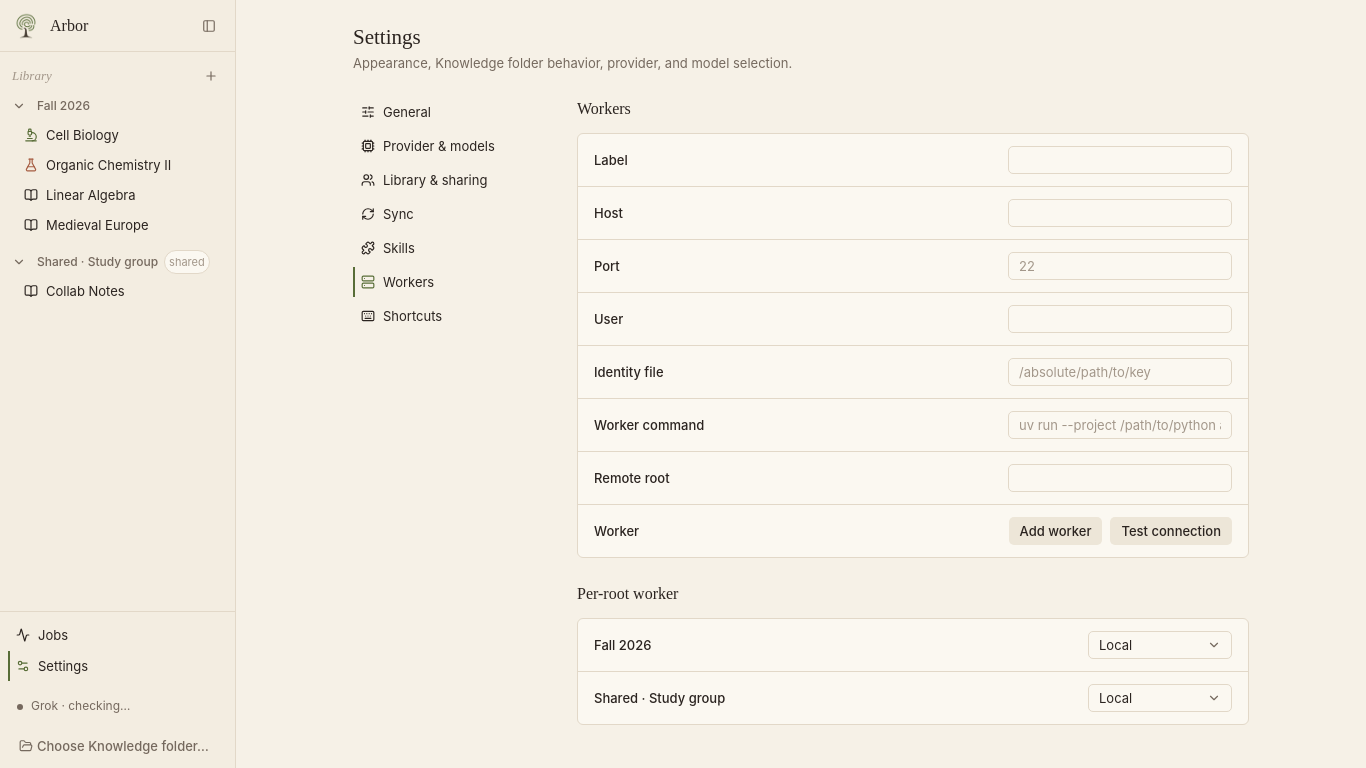
Test: settings sharing (14b) › workers invalid port shows legacy error
Check: the field named "Worker port" is shown, box 1008,252 -> 1232,280
In the field named "Worker label": coordinates (1120, 160) 1008,146 -> 1232,174, type "GPU"
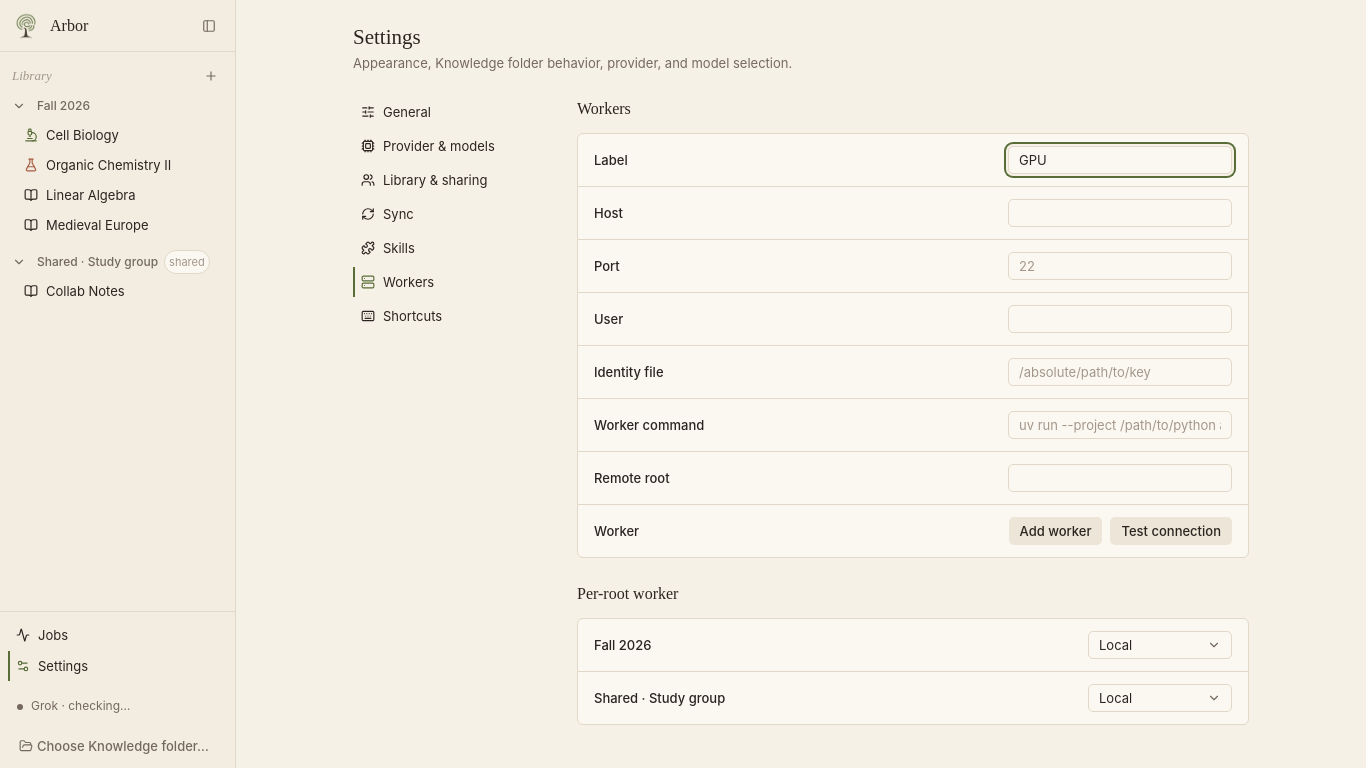
In the field named "Worker host": coordinates (1120, 213) 1008,199 -> 1232,227, type "gpu.local"
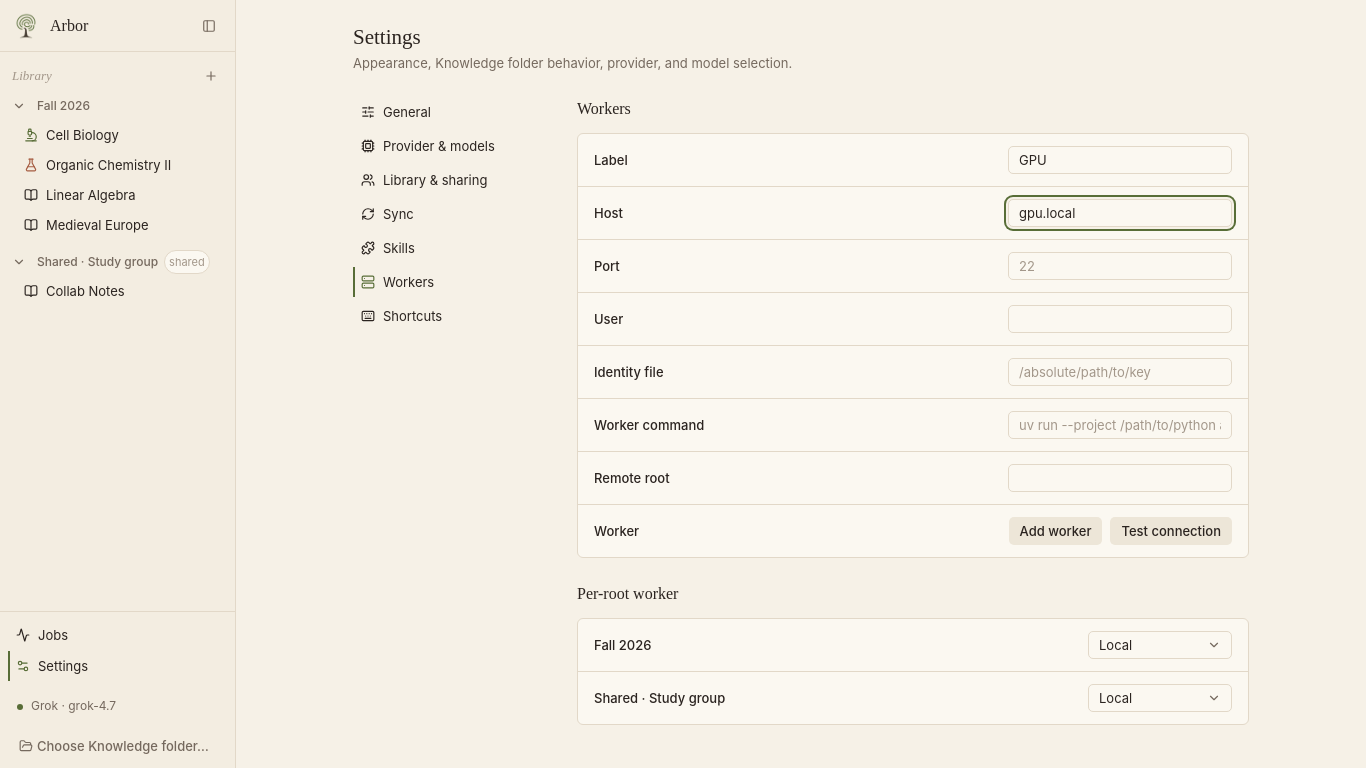
In the field named "Worker port": coordinates (1120, 266) 1008,252 -> 1232,280, type "99999"
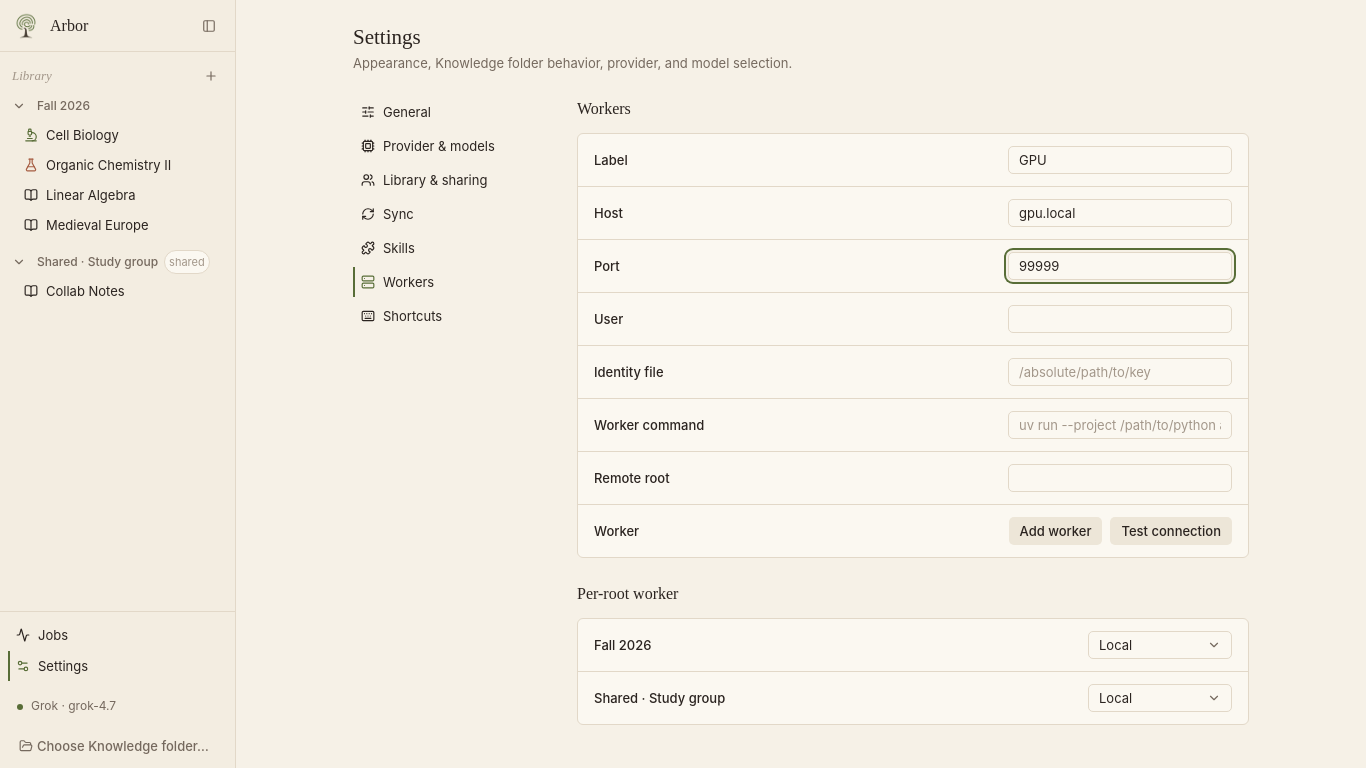
In the field labelled "Worker command": coordinates (1120, 425) 1008,411 -> 1232,439, type "cmd"
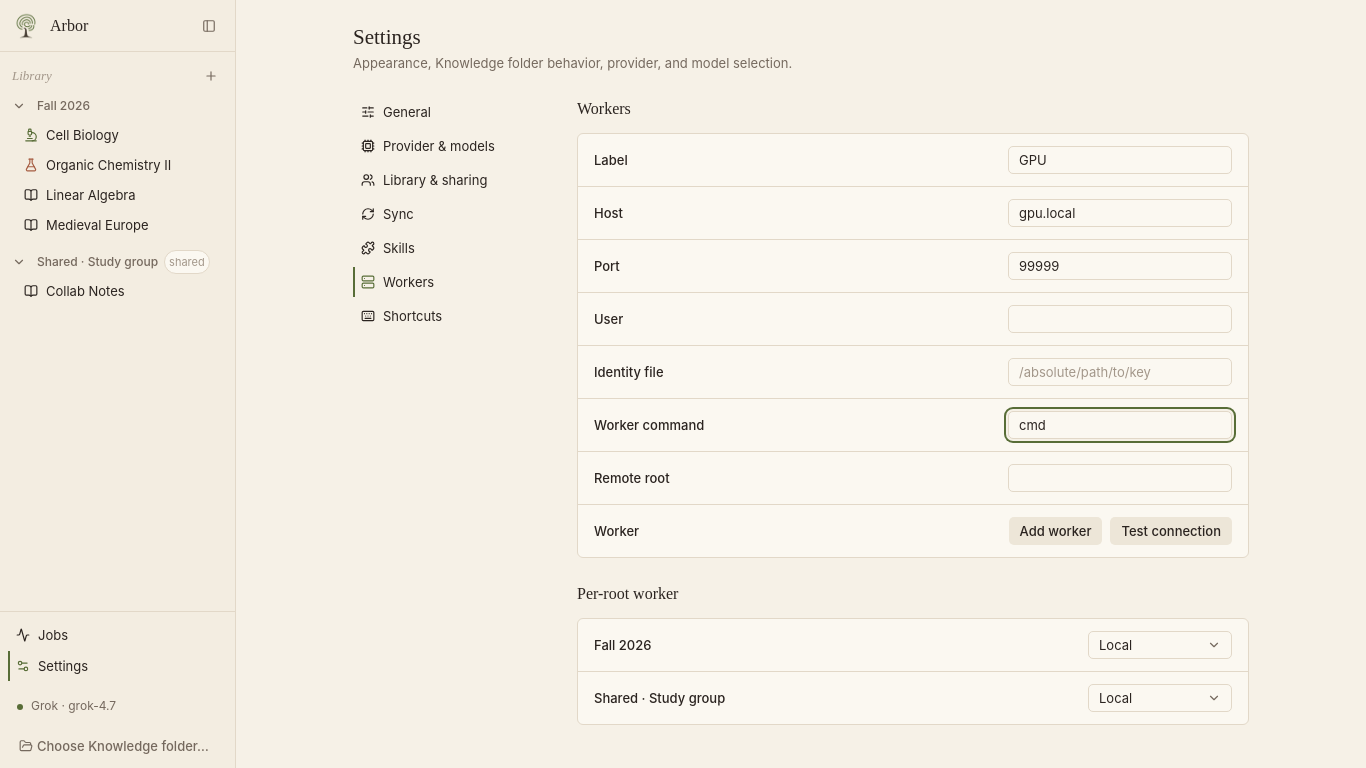
In the field labelled "Remote root": coordinates (1120, 478) 1008,464 -> 1232,492, type "/data"
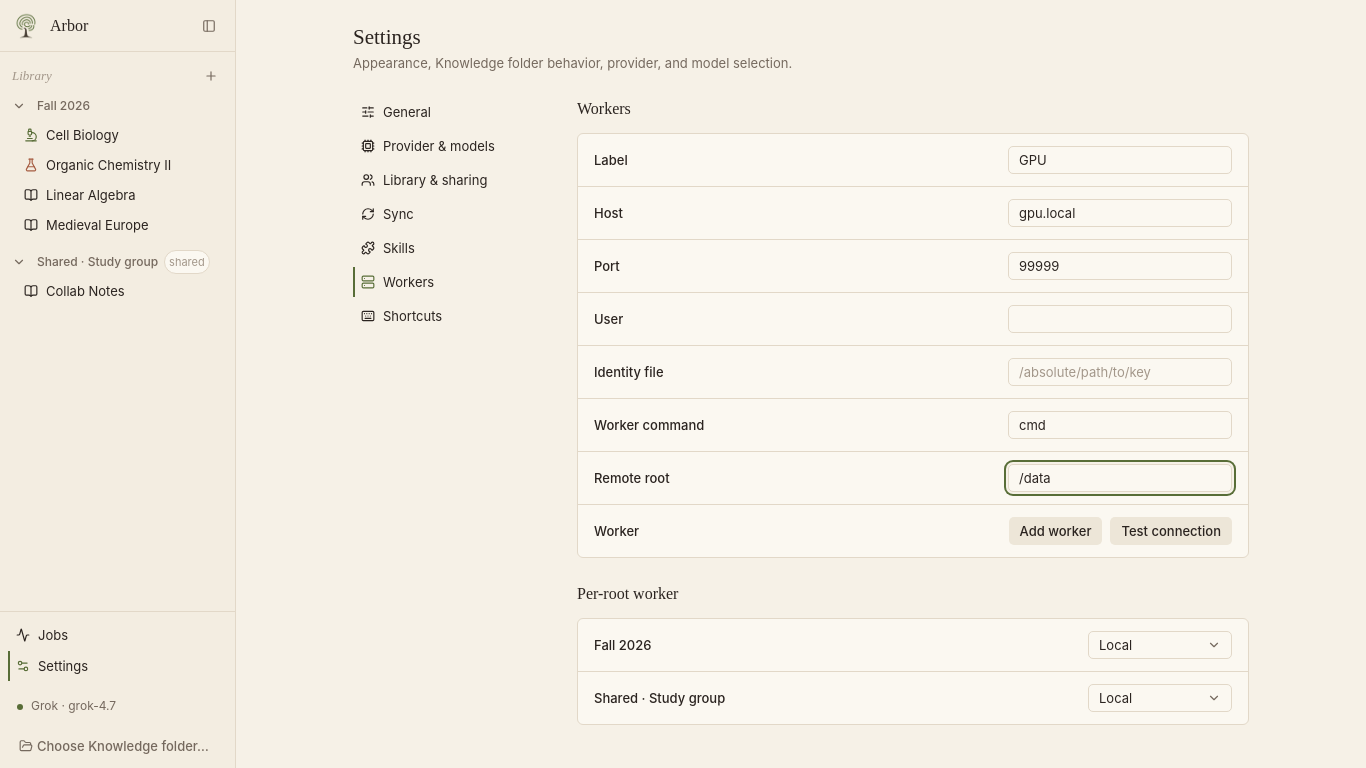
Click the button "Add worker": coordinates (1056, 531) 1008,517 -> 1102,545
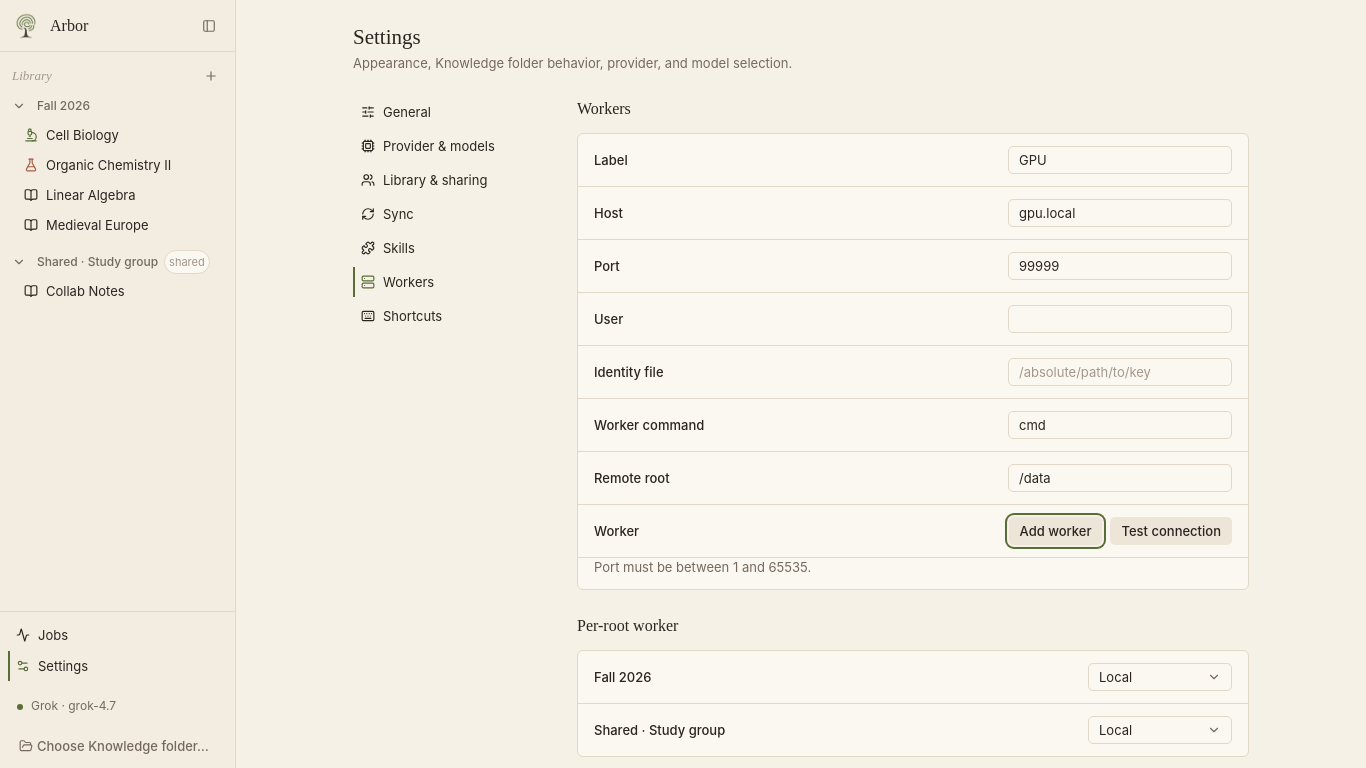
Check: the text with test id "worker-status" reads "Port must be between 1 and 65535.", box 594,559 -> 811,575
